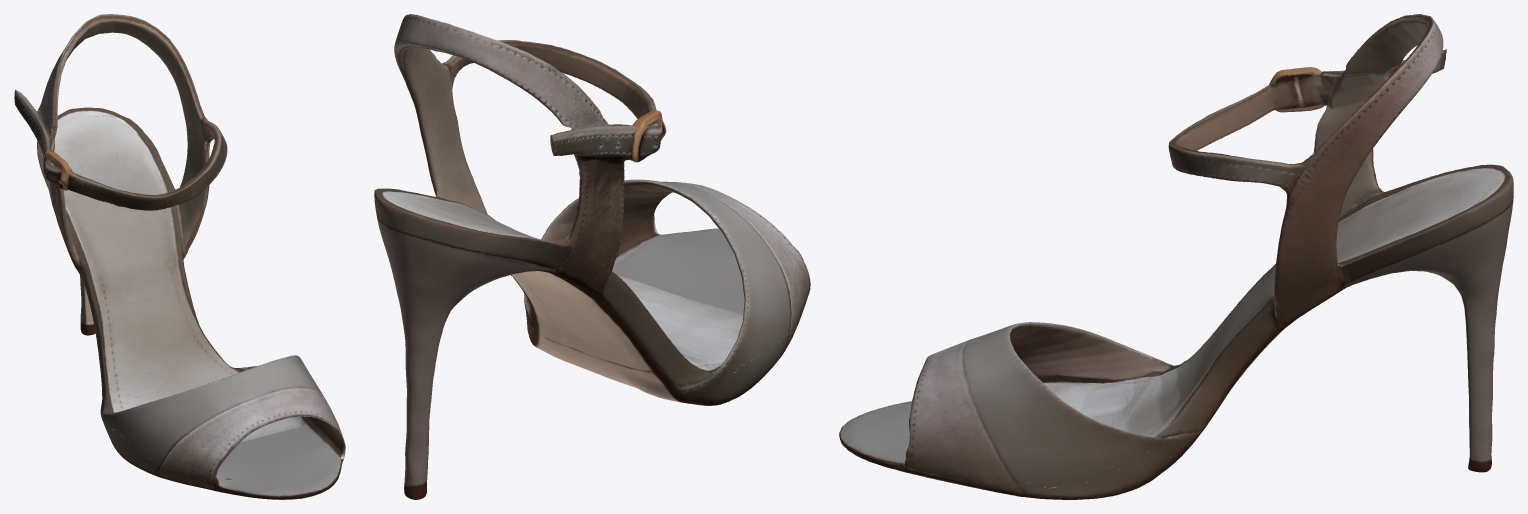
The model's file is scanned-transformed.glb.
3 renders of one model, left to right at view 1: azimuth 30°, elevation 25°; view 2: azimuth 150°, elevation 25°; view 3: azimuth 270°, elevation 25°, orthographic. The views are drawn at different scales.
Parts seen in each view (by area): view 1: Object_2; view 2: Object_2; view 3: Object_2.
Boxes of the visible parts, x1=… form: Object_2: x1=14, y1=14, x2=345, y2=499; Object_2: x1=374, y1=14, x2=810, y2=499; Object_2: x1=839, y1=14, x2=1513, y2=499.
Bounding box in the file's own units: 6.62 × 12.33 × 16.86.
Materials: 1 (1 with a texture image).
